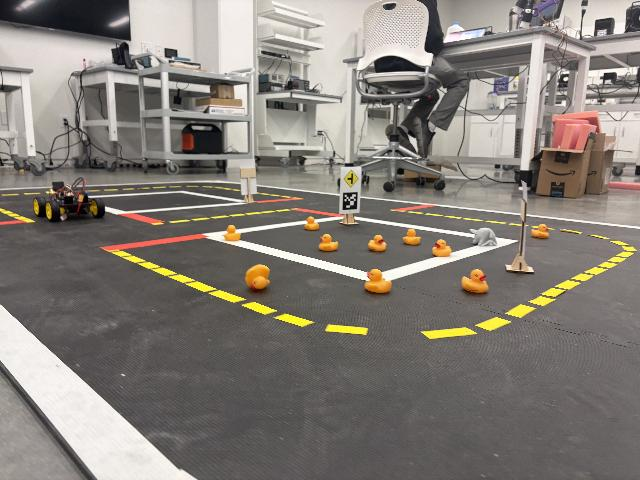duck: (364, 268, 393, 294), (245, 264, 271, 291), (461, 270, 488, 293), (432, 239, 452, 258), (318, 234, 339, 252), (368, 234, 387, 253), (402, 228, 421, 246), (223, 225, 241, 241), (531, 223, 549, 239), (303, 216, 319, 231)
mouse: (470, 227, 498, 246)
redline: (99, 234, 209, 253), (118, 213, 164, 223), (292, 208, 343, 217), (394, 205, 436, 211), (257, 199, 301, 204), (0, 220, 28, 224)
whiteline: (0, 301, 196, 480), (216, 180, 639, 228), (206, 235, 372, 281), (382, 241, 516, 280), (354, 215, 515, 241), (205, 216, 345, 237), (116, 202, 244, 216), (88, 189, 183, 198), (183, 191, 245, 201), (105, 206, 123, 214)
yellowline: (105, 249, 315, 328), (476, 252, 634, 332), (405, 212, 609, 239), (0, 186, 182, 196), (214, 187, 302, 199), (420, 327, 476, 339), (0, 207, 37, 223), (326, 325, 368, 338), (609, 239, 636, 250), (186, 185, 211, 188)
